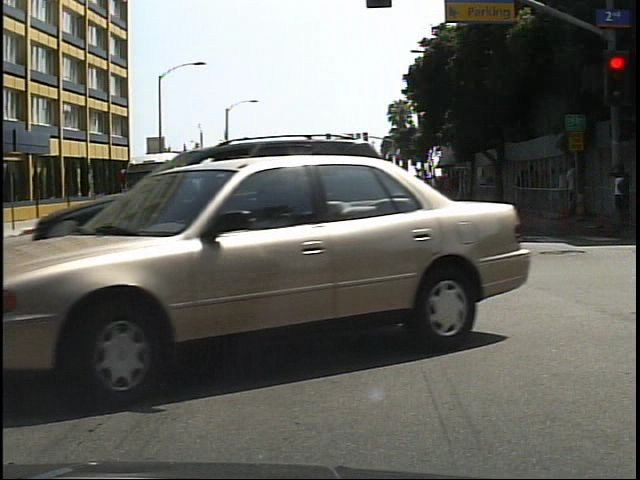car: (0, 145, 547, 409)
